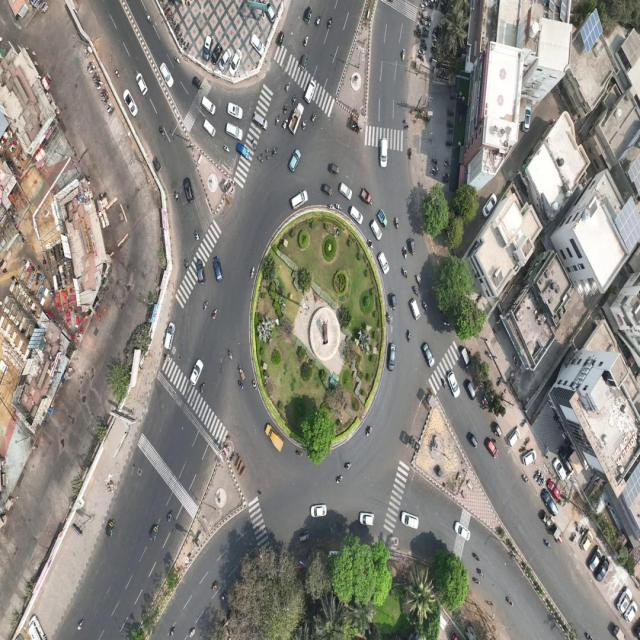3W: (105, 519, 115, 538), (468, 432, 478, 450), (150, 524, 159, 542), (408, 238, 416, 257), (389, 292, 397, 311), (492, 422, 502, 437), (152, 157, 161, 173), (277, 31, 285, 49), (192, 77, 203, 90), (298, 529, 309, 542), (301, 53, 308, 72), (323, 184, 333, 197), (304, 6, 311, 24), (329, 163, 339, 175)
Cars: (541, 489, 560, 517), (617, 586, 633, 615), (123, 89, 138, 117), (482, 193, 498, 219), (589, 546, 603, 573), (229, 49, 242, 77), (288, 149, 303, 173), (291, 190, 309, 210), (447, 371, 460, 398), (160, 63, 174, 88), (164, 322, 176, 351), (250, 33, 265, 56), (226, 122, 244, 141), (401, 512, 420, 530), (190, 359, 203, 385), (422, 343, 435, 368), (553, 457, 566, 482), (454, 521, 470, 541), (304, 79, 316, 105), (253, 111, 268, 131), (210, 42, 223, 65), (547, 480, 561, 501), (227, 101, 243, 119), (508, 426, 521, 448), (195, 258, 206, 284), (183, 177, 194, 203), (213, 255, 223, 283), (523, 101, 532, 132), (378, 252, 390, 275), (136, 73, 148, 96), (203, 35, 213, 62), (202, 97, 217, 115), (387, 342, 396, 371), (350, 206, 363, 226), (380, 138, 388, 169), (203, 118, 216, 137), (339, 182, 352, 201), (371, 219, 382, 241), (410, 299, 421, 321), (522, 451, 537, 467), (236, 143, 250, 160), (311, 505, 328, 518), (460, 348, 470, 370), (465, 380, 476, 400), (266, 2, 276, 23), (360, 513, 375, 525)
LCV: (265, 424, 284, 452), (290, 101, 304, 135), (361, 187, 372, 206), (378, 210, 388, 229)
M2W: (145, 14, 154, 27), (211, 579, 220, 592), (166, 509, 173, 524), (472, 576, 481, 585), (472, 552, 480, 562), (159, 124, 165, 137), (251, 378, 257, 391), (194, 229, 200, 241), (211, 308, 217, 320), (227, 349, 233, 361), (200, 382, 206, 394), (584, 632, 593, 640), (78, 619, 84, 631), (366, 426, 372, 438), (477, 568, 484, 578), (506, 596, 513, 606), (544, 539, 551, 549), (522, 474, 529, 484), (203, 300, 209, 311), (169, 626, 175, 637), (221, 592, 227, 603), (441, 378, 447, 389), (513, 356, 519, 367), (416, 275, 422, 286), (272, 147, 278, 158), (275, 115, 281, 126), (423, 300, 428, 313), (344, 462, 352, 470), (296, 449, 303, 458), (336, 475, 343, 484), (486, 350, 493, 359), (114, 68, 120, 78), (190, 628, 196, 638), (402, 267, 407, 279), (312, 111, 317, 123), (402, 48, 406, 62), (446, 121, 454, 128), (174, 191, 179, 202), (498, 376, 503, 387), (413, 286, 418, 297), (302, 119, 307, 130), (174, 55, 180, 64), (238, 380, 244, 389), (521, 418, 527, 427), (407, 330, 411, 343), (403, 247, 407, 260), (251, 266, 255, 279), (571, 532, 576, 542), (525, 437, 530, 447), (368, 240, 373, 250), (286, 82, 291, 92), (292, 95, 297, 105), (283, 119, 288, 129), (431, 158, 438, 165), (575, 520, 579, 532), (252, 139, 256, 151), (224, 144, 230, 152), (304, 36, 308, 48), (316, 15, 320, 27), (328, 17, 332, 29), (184, 258, 188, 269), (335, 204, 342, 210), (328, 204, 335, 210), (419, 49, 425, 56), (423, 31, 429, 38), (444, 161, 451, 167), (442, 177, 449, 183), (447, 110, 454, 116), (284, 104, 288, 114), (581, 527, 585, 537), (387, 312, 390, 325), (395, 217, 398, 230), (409, 148, 412, 161), (447, 129, 453, 135), (443, 321, 450, 326), (421, 38, 427, 43), (446, 141, 452, 146), (163, 3, 167, 10), (168, 12, 172, 19), (432, 167, 438, 171), (443, 173, 449, 177)
